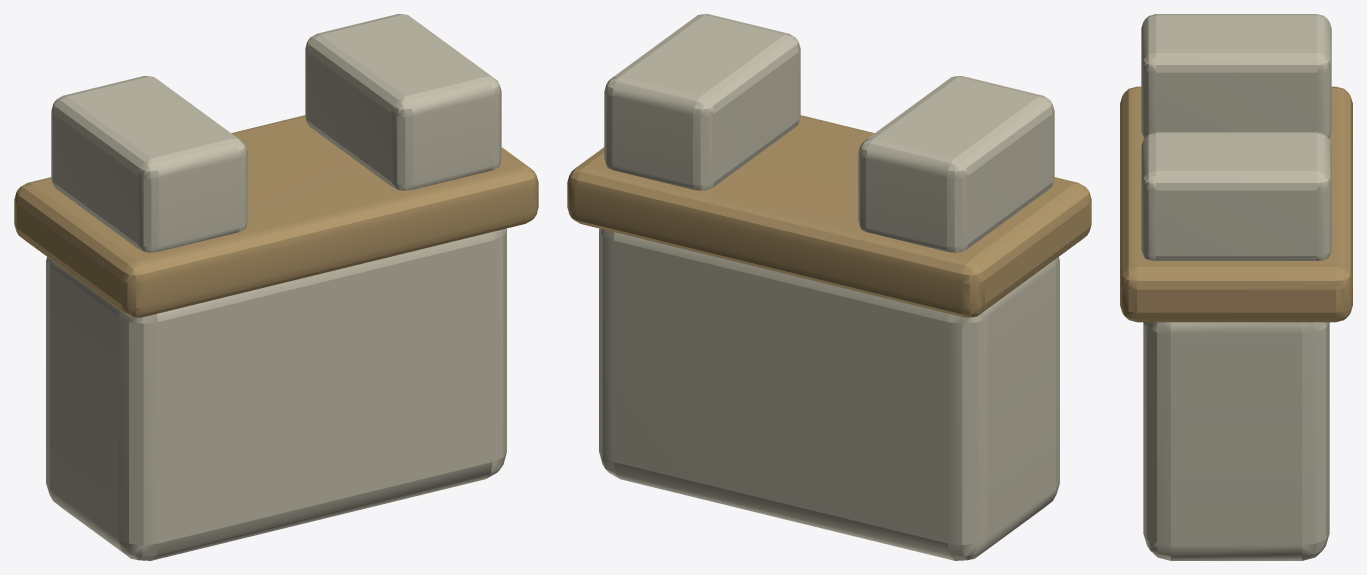
The model's file is wall.glb.
3 views of the same model, side by side, from view 1: azimuth 30°, elevation 25°; view 2: azimuth 150°, elevation 25°; view 3: azimuth 270°, elevation 25° (orthographic). The views are drawn at different scales.
Parts seen in each view (by area): view 1: Surface_FoundryStone, Surface_Brass; view 2: Surface_FoundryStone, Surface_Brass; view 3: Surface_FoundryStone, Surface_Brass.
Part boxes in pixels (box(x1,y1,x2,y2)): Surface_FoundryStone: box(46, 14, 506, 560); Surface_Brass: box(14, 115, 538, 317); Surface_FoundryStone: box(599, 14, 1059, 560); Surface_Brass: box(567, 115, 1091, 317); Surface_FoundryStone: box(1141, 14, 1331, 560); Surface_Brass: box(1120, 86, 1352, 322).
Bounding box in the file's own units: 1.08 × 1.01 × 0.55.
